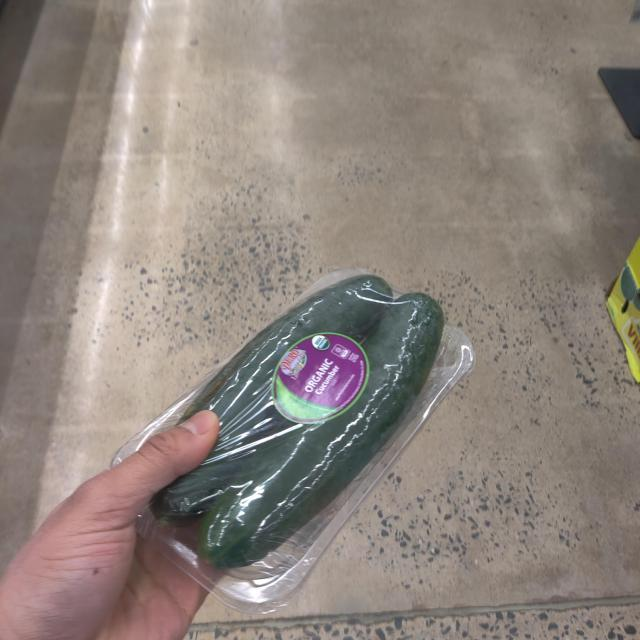Cucumber: (144, 275, 450, 571)
